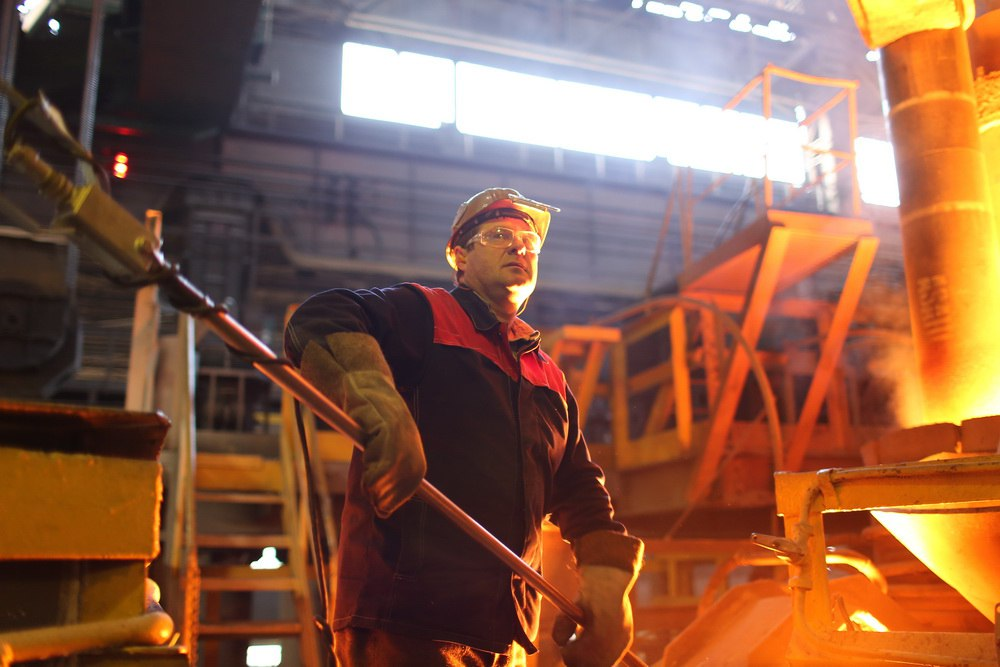person: (286, 192, 645, 667)
